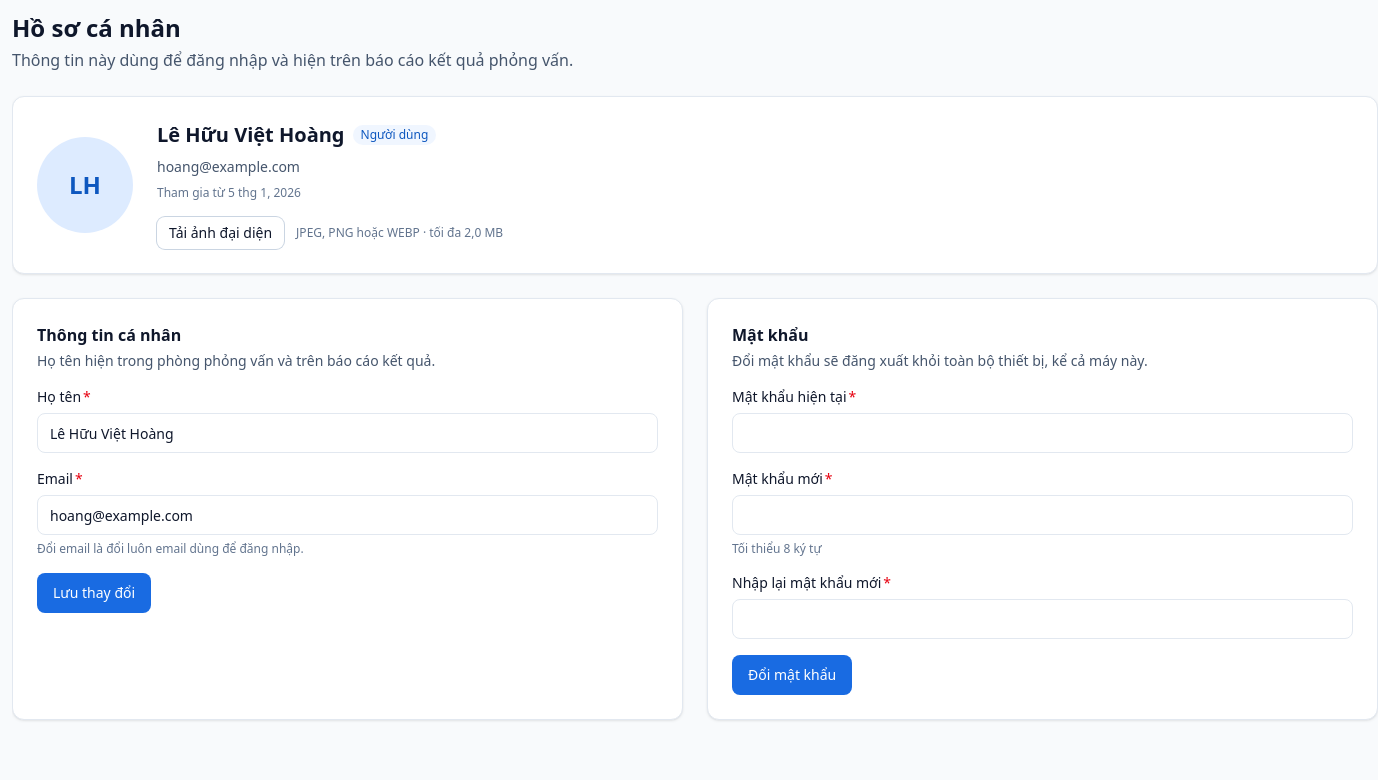
Test: puts a taken email error on the email field
Check: the heading "Lê Hữu Việt Hoàng" is shown, box [157, 121, 344, 149]
Replace the text in the field labelled "Email" with "daco@example.com" at coordinates (348, 515), box [37, 495, 658, 535]
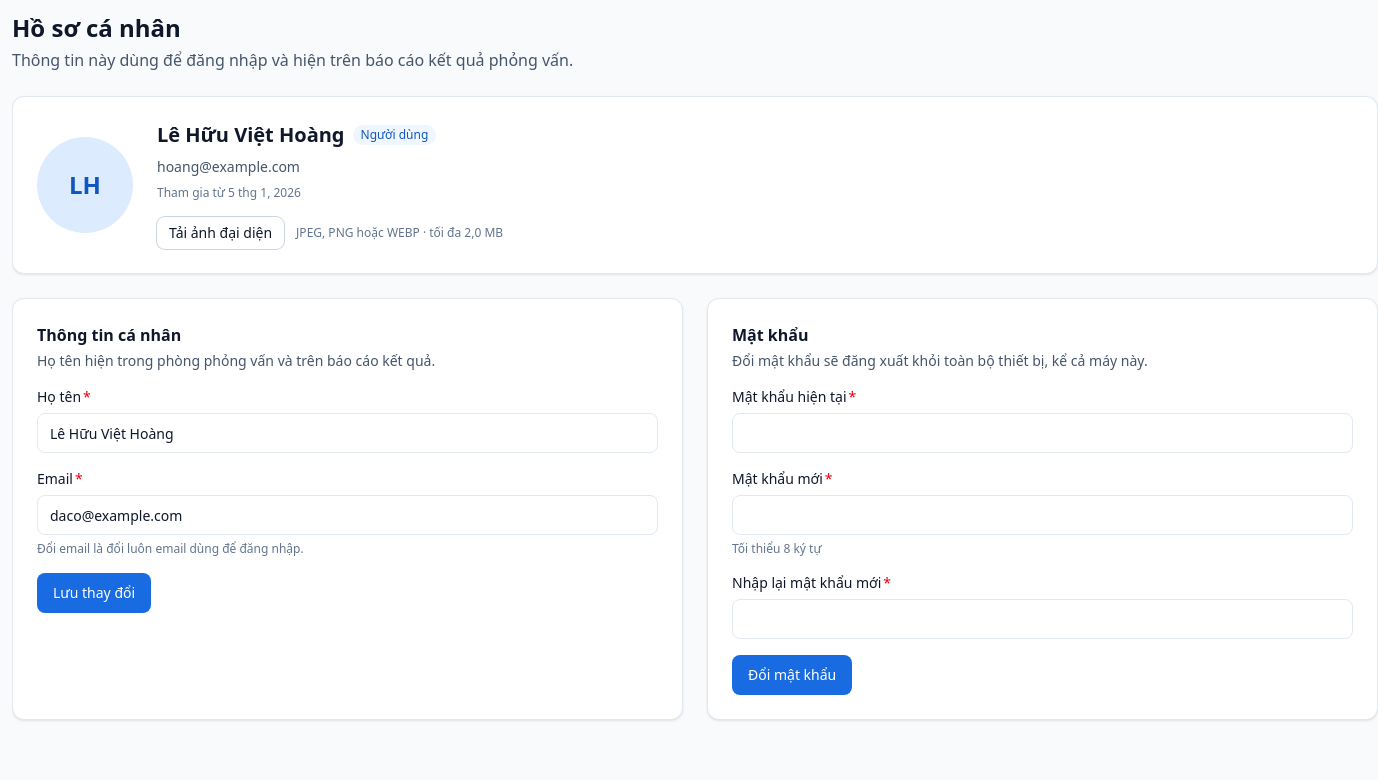
Click the button "Lưu thay đổi" at coordinates (94, 593), box [37, 573, 151, 613]
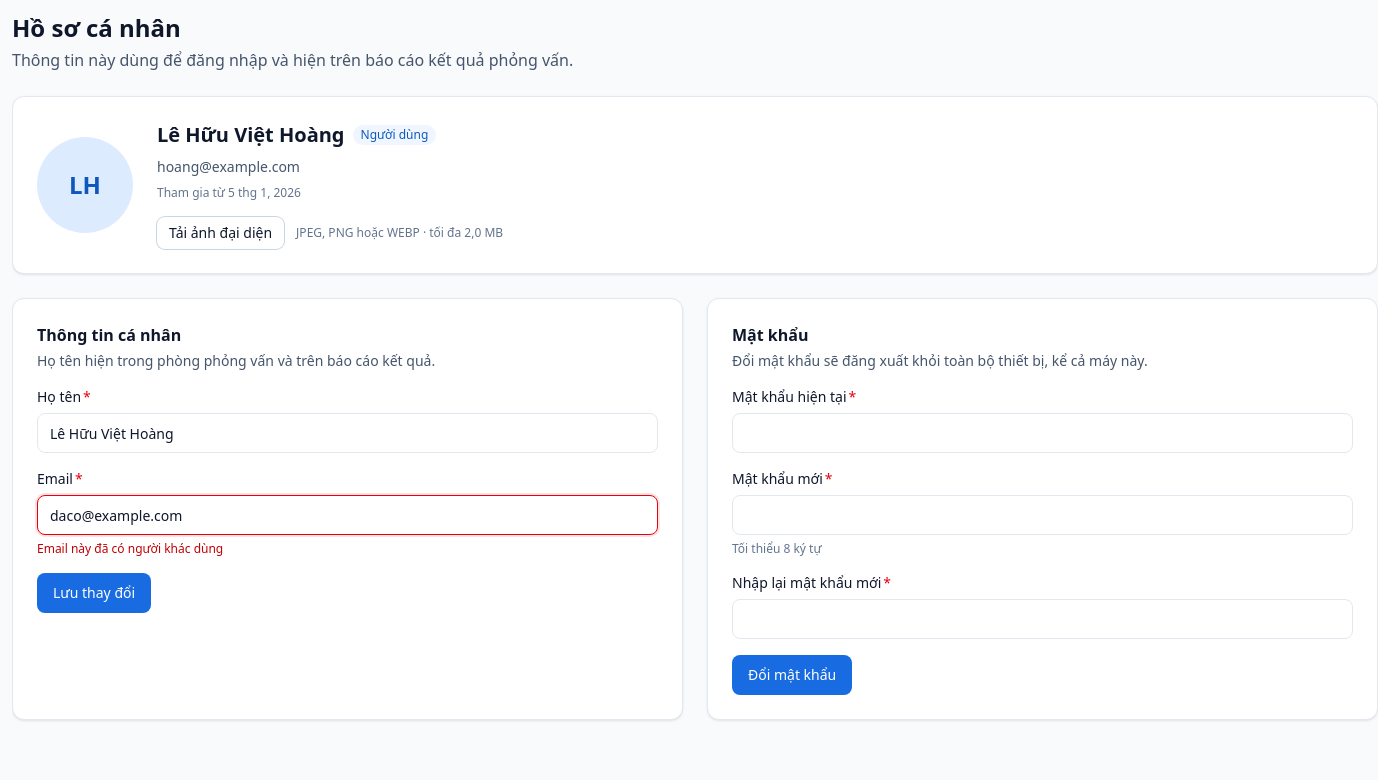
Check: the message reads "Email này đã có người khác dùng", box [37, 540, 223, 557]
